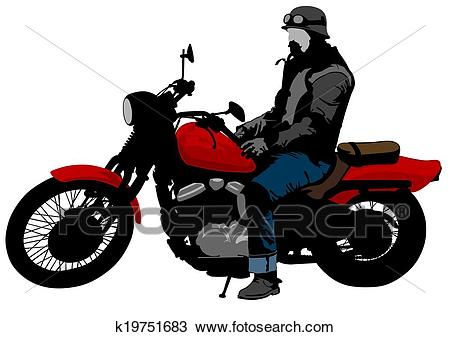with_helmet: (279, 2, 334, 38)
